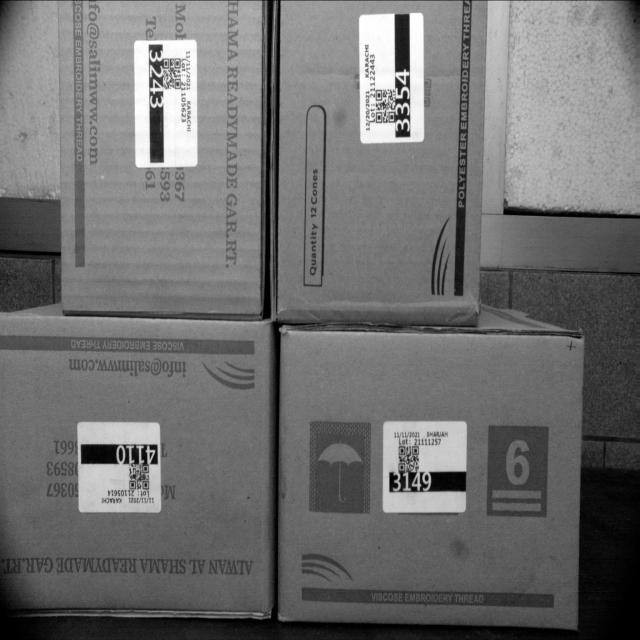cardboxes: (278, 321, 582, 637), (0, 321, 275, 637), (273, 0, 485, 326), (56, 0, 264, 313)
